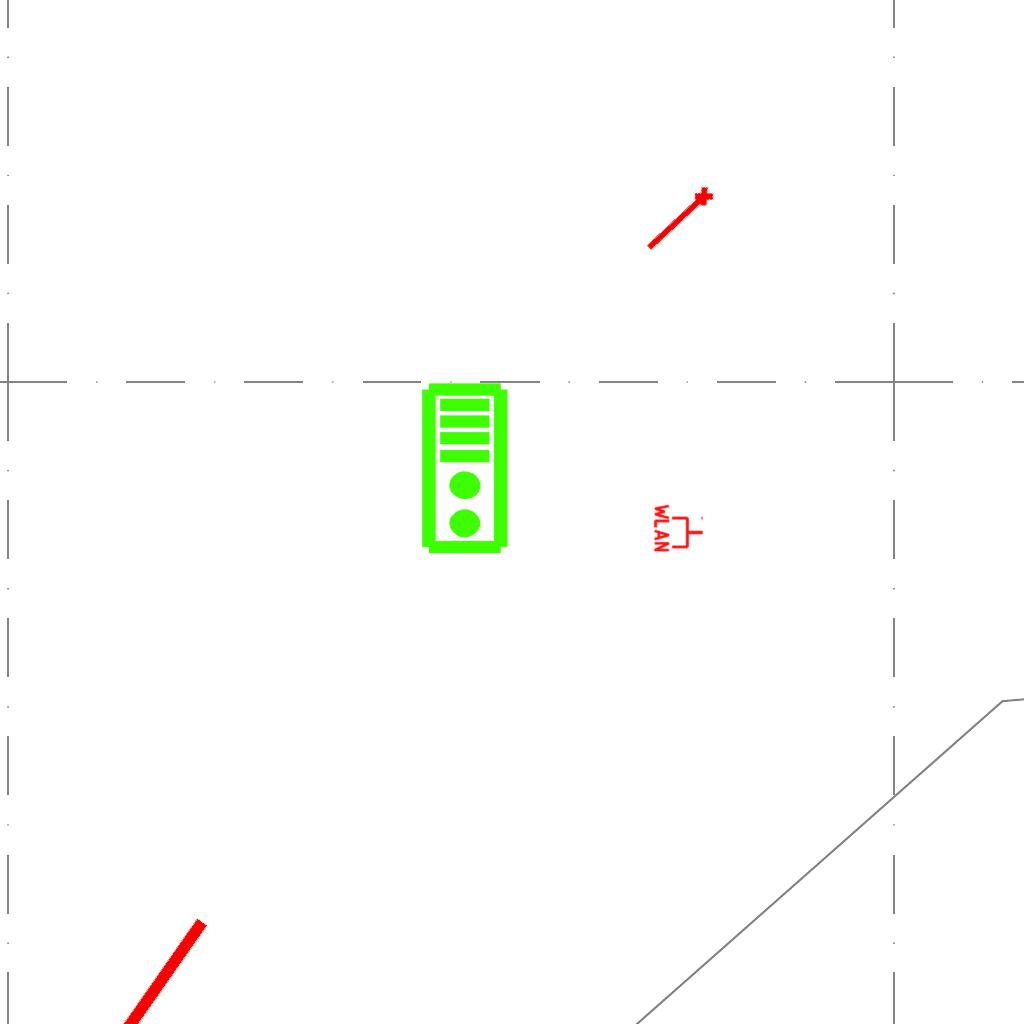ASR_Ansaugoeffnung: (83, 902, 223, 1024), (639, 182, 721, 259)
Gegensprechanlage_mit_Video: (419, 381, 514, 557)
WLAN: (653, 502, 705, 554)
